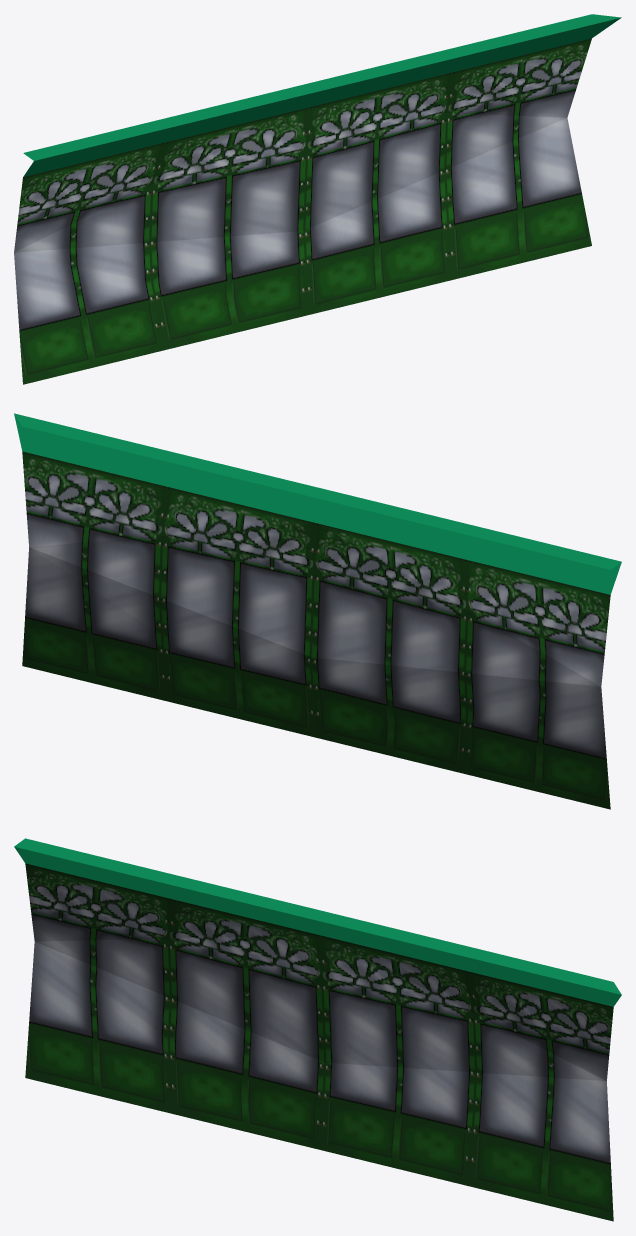
File: W_A2r_xxxx [GrünesMetall]_257.glb
3 views of the same model, one above another, from view 1: azimuth 30°, elevation 25°; view 2: azimuth 150°, elevation 25°; view 3: azimuth 330°, elevation 25° (orthographic). The views are drawn at different scales.
Parts seen in each view (by area): view 1: polySurfaceShape787, polySurfaceShape1065; view 2: polySurfaceShape787, polySurfaceShape1065; view 3: polySurfaceShape787, polySurfaceShape1065.
Part boxes in pixels (x1=…): polySurfaceShape787: x1=14, y1=38, x2=591, y2=384; polySurfaceShape1065: x1=23, y1=14, x2=621, y2=176; polySurfaceShape787: x1=22, y1=451, x2=610, y2=809; polySurfaceShape1065: x1=14, y1=413, x2=621, y2=594; polySurfaceShape787: x1=25, y1=863, x2=613, y2=1221; polySurfaceShape1065: x1=14, y1=838, x2=621, y2=1006.
Size of the model in its own units: 1.03 by 0.3891 by 0.0607.
2 materials, 1 textured.
